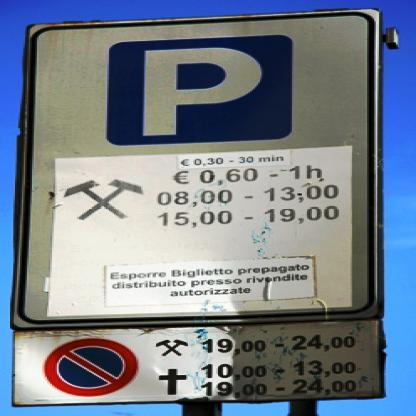Parking: (91, 38, 319, 142)
